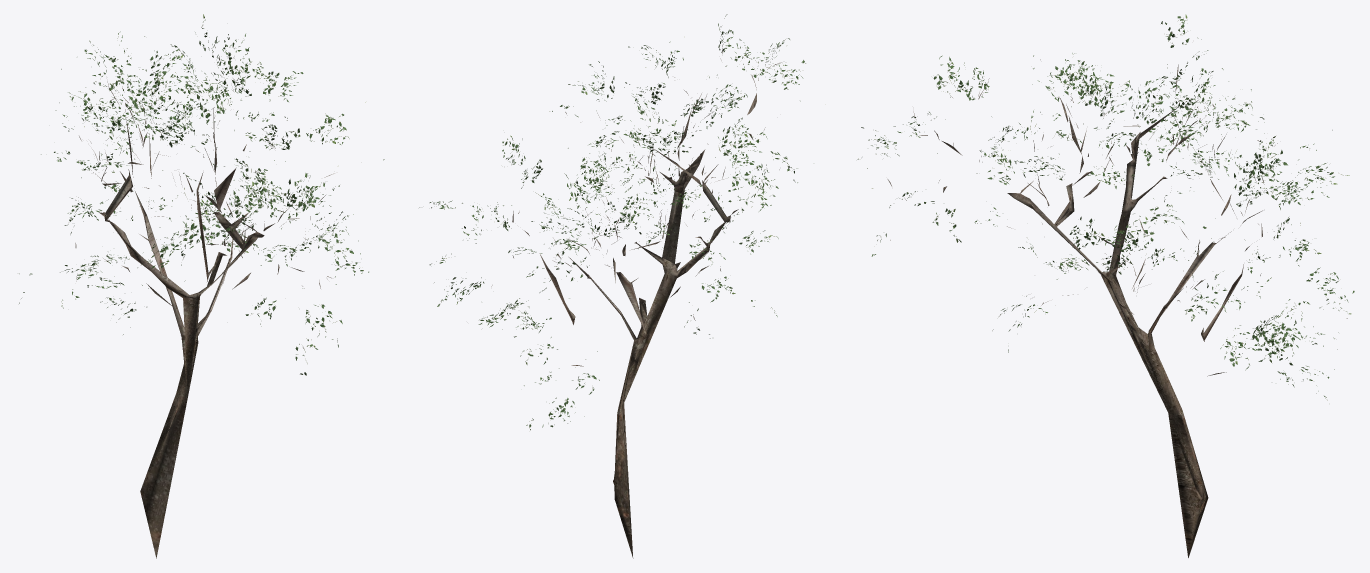
The model's file is tree_small_02.light.glb.
The picture shows the model from 3 angles, left to right: view 1: azimuth 30°, elevation 25°; view 2: azimuth 150°, elevation 25°; view 3: azimuth 270°, elevation 25°; orthographic projection. The views are drawn at different scales.
Visible parts, largest first — view 1: tree_small_02_LOD0; view 2: tree_small_02_LOD0; view 3: tree_small_02_LOD0.
Part boxes in pixels (x1,y1,x2,y2): tree_small_02_LOD0: (19,14,384,558); tree_small_02_LOD0: (419,14,805,558); tree_small_02_LOD0: (857,14,1354,557).
Bounding box in the file's own units: 1.34 × 2.11 × 1.87.
Materials: 3 (3 with a texture image).
